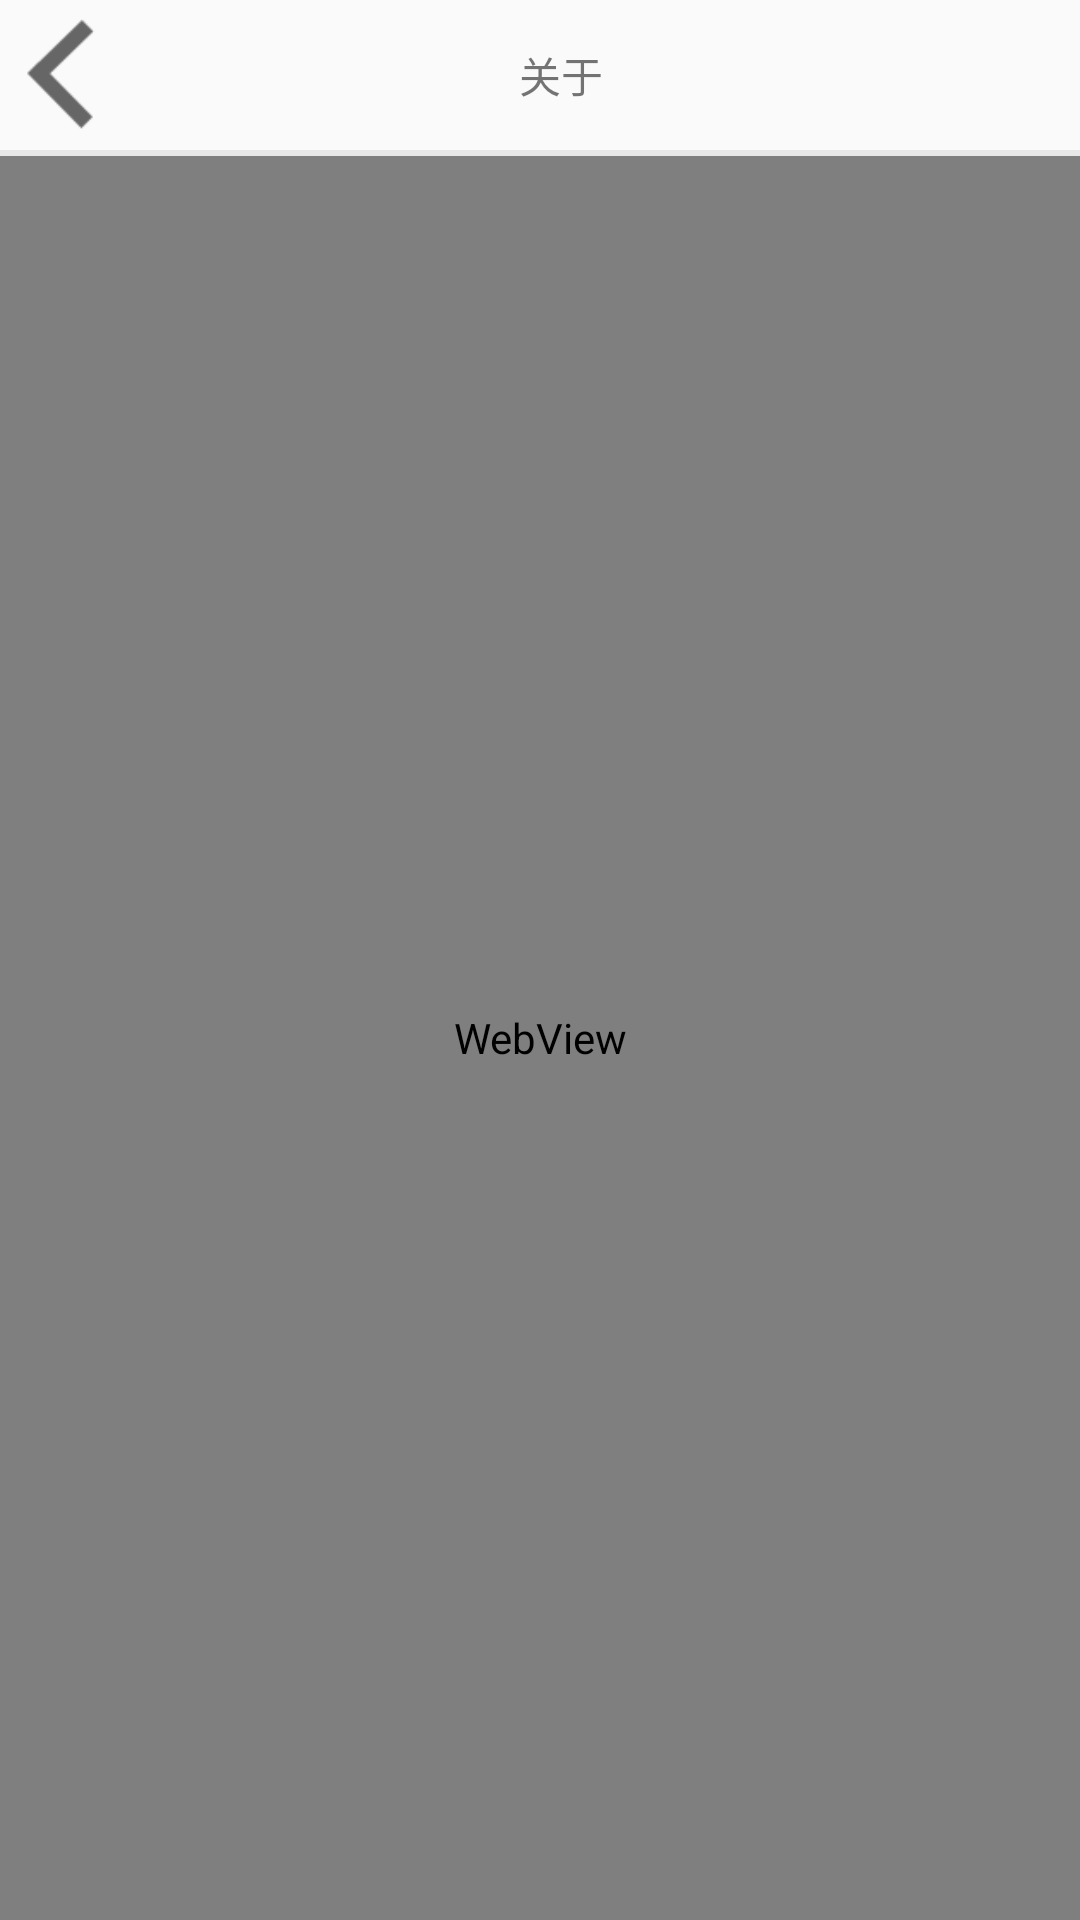

Where icons sit on this 1080x1920 app screen, as detection(x1, y1, x2, y2):
back: detection(27, 20, 93, 129)
